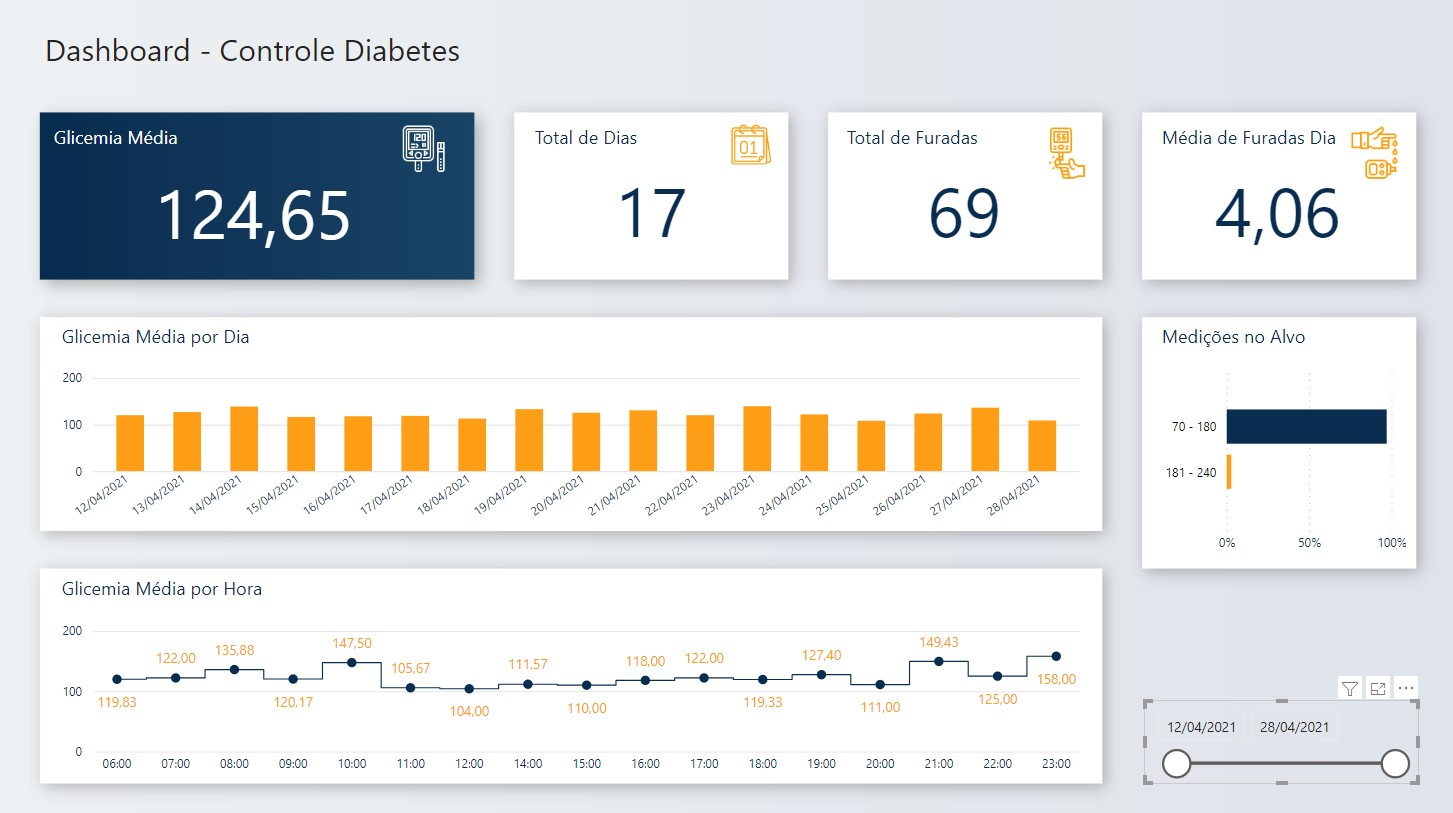

What the dashboard file says about the page in this screenshot:
{"tool":"powerbi","page":{"name":"Glicemia","canvas":[1280,720],"ordinal":0},"visuals":[{"type":"textbox","box":[34.3,20.2,383.3,51],"z":0},{"type":"card","title":"Glicemia Média","fields":{"Values":["Medidas.MediaGlicose"]},"box":[127.5,142.4,189.9,83.5],"z":1000},{"type":"image","box":[346.4,105.5,51.9,51.9],"z":2000},{"type":"textbox","box":[42.2,105.5,132.7,31.6],"z":2001},{"type":"image","box":[903.6,105.5,58,58.9],"z":2002},{"type":"card","title":"Total de Furadas","fields":{"Values":["Medidas.TotalFuradas"]},"box":[729.7,141.9,235.6,84],"z":2003},{"type":"textbox","box":[739.3,105.5,136.3,31.6],"z":2004},{"type":"card","title":"Total de Dias","fields":{"Values":["Medidas.TotalDias"]},"box":[454.5,141.5,235.6,84.4],"z":2005},{"type":"image","box":[632.8,105.5,54.5,44.8],"z":2006},{"type":"image","box":[1174.4,105.5,73,58.9],"z":2007},{"type":"textbox","box":[465.1,105.5,136.3,31.6],"z":2008},{"type":"textbox","box":[1016.3,105.5,173.2,31.6],"z":2009},{"type":"card","title":"Média Furadas por Dia","fields":{"Values":["Medidas.MediaFuradas"]},"box":[1005.7,141.5,235.6,84.4],"z":2010},{"type":"columnChart","title":"Média Glicemia por Data","fields":{"Y":["Avg(Glicemia.Valor)"],"Category":["Calendario.Data"]},"box":[49.2,319.1,905.5,148.6],"z":2012},{"type":"textbox","box":[49.2,280.4,183.7,31.6],"z":2013},{"type":"lineChart","title":"Média Glicemia por Hora","fields":{"Category":["Glicemia.Horas Inteiras"],"Y":["Avg(Glicemia.Valor)"]},"box":[49.2,541.5,905.5,148.6],"z":2014},{"type":"textbox","box":[49.2,502,201.3,31.6],"z":2015},{"type":"barChart","title":"Percentual no Alvo","fields":{"Category":["Glicemia.Faixa"],"Y":["Divide(CountNonNull(Glicemia.Valor), ScopedEval(CountNonNull(Glicemia.Valor), []))"]},"box":[1016.3,312.1,225.1,183.7],"z":2016},{"type":"textbox","box":[1016.3,280.4,183.7,31.6],"z":2017},{"type":"slicer","fields":{"Values":["Calendario.Data"]},"box":[1005.7,616.3,241.8,73.8],"z":2018}]}

Visuals, with their boxes in screenshot pixels (x1, y1, x2, y2), scaled from the page's 1280x720 canvas onto the 1453x813 screenshot:
textbox: x1=39 y1=23 x2=474 y2=80
"Glicemia Média" card: x1=145 y1=161 x2=360 y2=255
image: x1=393 y1=119 x2=452 y2=178
textbox: x1=48 y1=119 x2=199 y2=155
image: x1=1026 y1=119 x2=1092 y2=186
"Total de Furadas" card: x1=828 y1=160 x2=1096 y2=255
textbox: x1=839 y1=119 x2=994 y2=155
"Total de Dias" card: x1=516 y1=160 x2=783 y2=255
image: x1=718 y1=119 x2=780 y2=170
image: x1=1333 y1=119 x2=1416 y2=186
textbox: x1=528 y1=119 x2=683 y2=155
textbox: x1=1154 y1=119 x2=1350 y2=155
"Média Furadas por Dia" card: x1=1142 y1=160 x2=1409 y2=255
"Média Glicemia por Data" columnChart: x1=56 y1=360 x2=1084 y2=528
textbox: x1=56 y1=317 x2=264 y2=352
"Média Glicemia por Hora" lineChart: x1=56 y1=611 x2=1084 y2=779
textbox: x1=56 y1=567 x2=284 y2=603
"Percentual no Alvo" barChart: x1=1154 y1=352 x2=1409 y2=560
textbox: x1=1154 y1=317 x2=1362 y2=352
slicer - Calendario.Data: x1=1142 y1=696 x2=1416 y2=779
